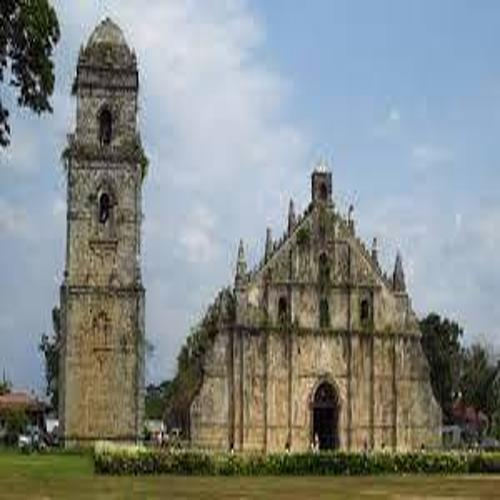Paoay Church: (45, 7, 478, 466)
